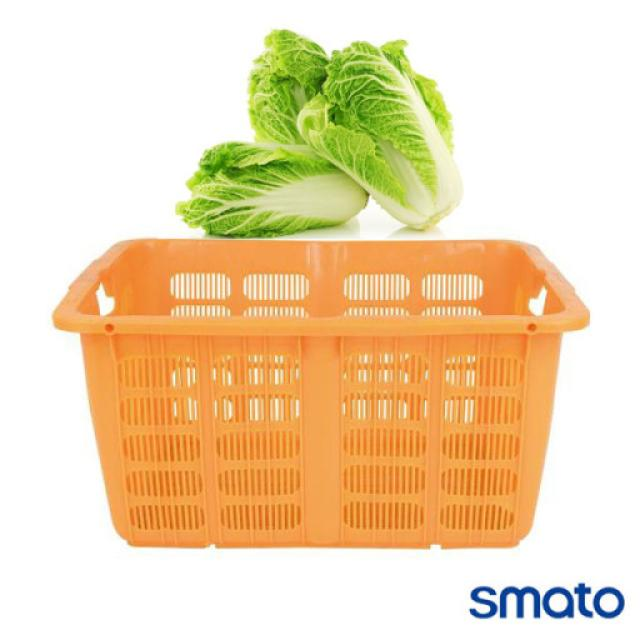basket: (53, 240, 590, 548)
